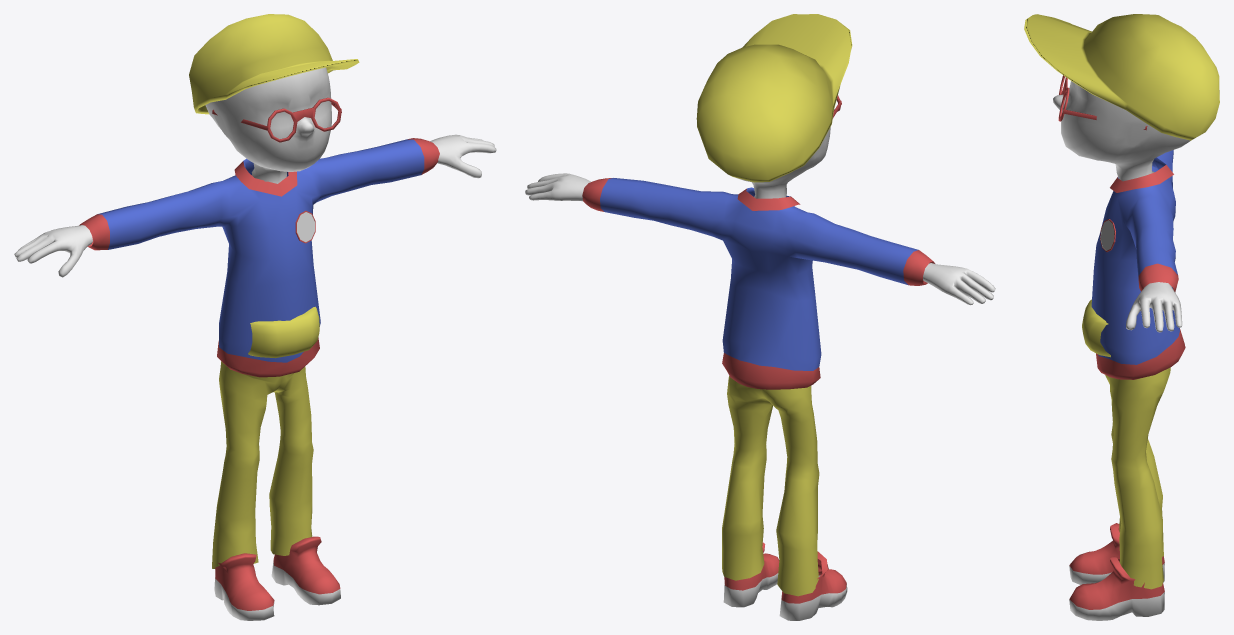
The model's file is Ana_karakter 2.fbx.
3 renders of one model, left to right at view 1: azimuth 30°, elevation 25°; view 2: azimuth 150°, elevation 25°; view 3: azimuth 270°, elevation 25°, orthographic. The views are drawn at different scales.
Visible parts, largest first — view 1: polySurface26; view 2: polySurface26; view 3: polySurface26.
Boxes of the visible parts, x1,y1,x2,y2 form: polySurface26: [14, 14, 496, 620]; polySurface26: [525, 14, 995, 620]; polySurface26: [1024, 14, 1219, 620].
Bounding box in the file's own units: 8.1 × 9.23 × 2.83.
